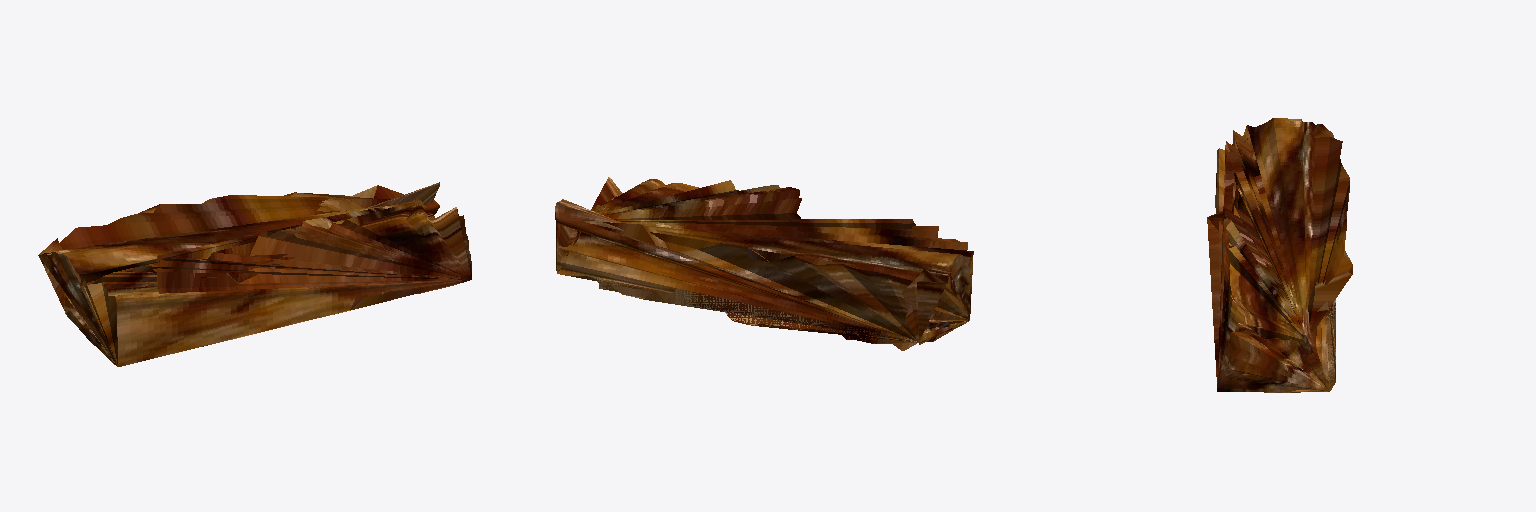
3 views of the same model, side by side, from view 1: azimuth 30°, elevation 25°; view 2: azimuth 150°, elevation 25°; view 3: azimuth 270°, elevation 25° (orthographic).
Parts seen in each view (by area): view 1: Cube_Cube.001; view 2: Cube_Cube.001; view 3: Cube_Cube.001.
Boxes of the visible parts, <box> form: Cube_Cube.001: <box>38,182,471,366</box>; Cube_Cube.001: <box>555,177,973,350</box>; Cube_Cube.001: <box>1207,118,1352,392</box>.
Size of the model in its own units: 0.1932 by 0.0437 by 0.0615.
Materials: 1 (1 with a texture image).